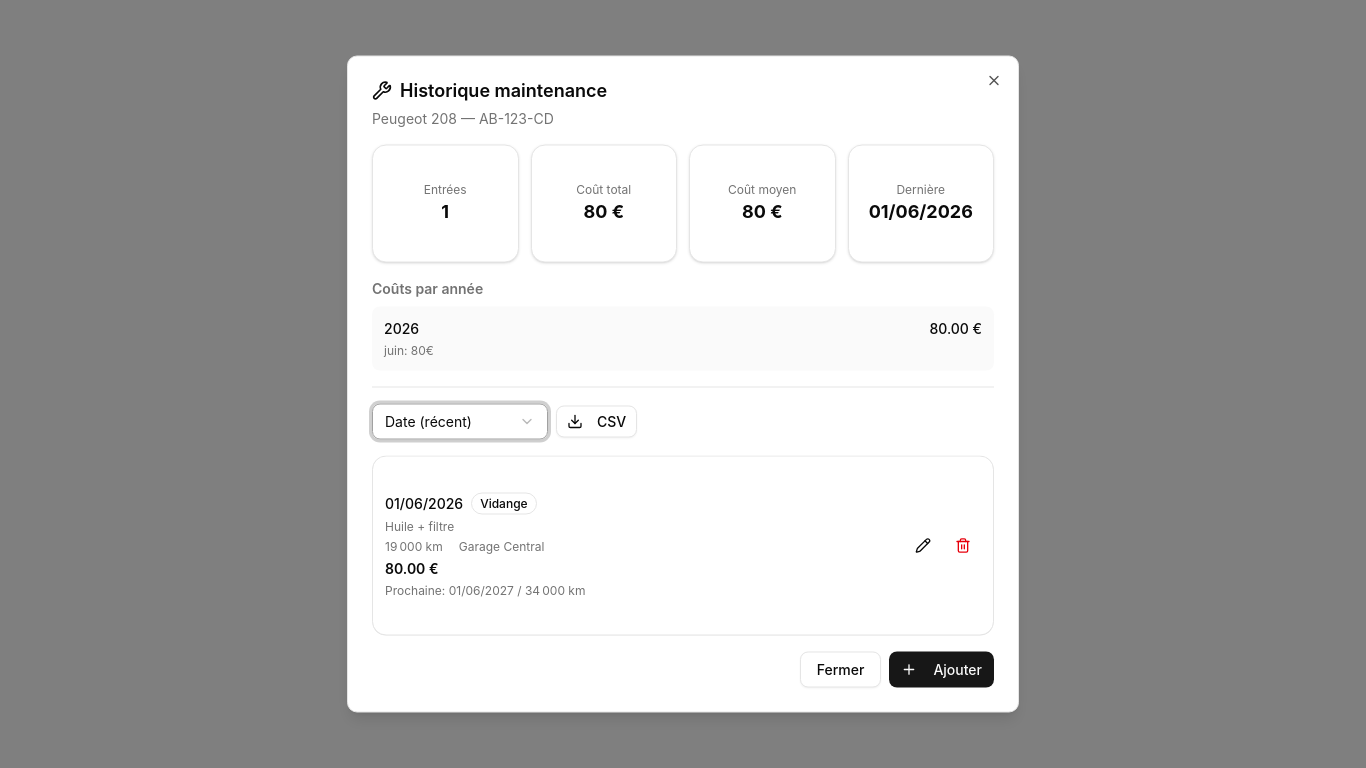
it: MaintenanceViewDialog › opens the add dialog from the Ajouter button
Expected: the heading "Historique maintenance" is shown, x1=372 y1=80 x2=607 y2=100
Click the button "Ajouter".
click(942, 670)  # box x1=889 y1=652 x2=994 y2=688
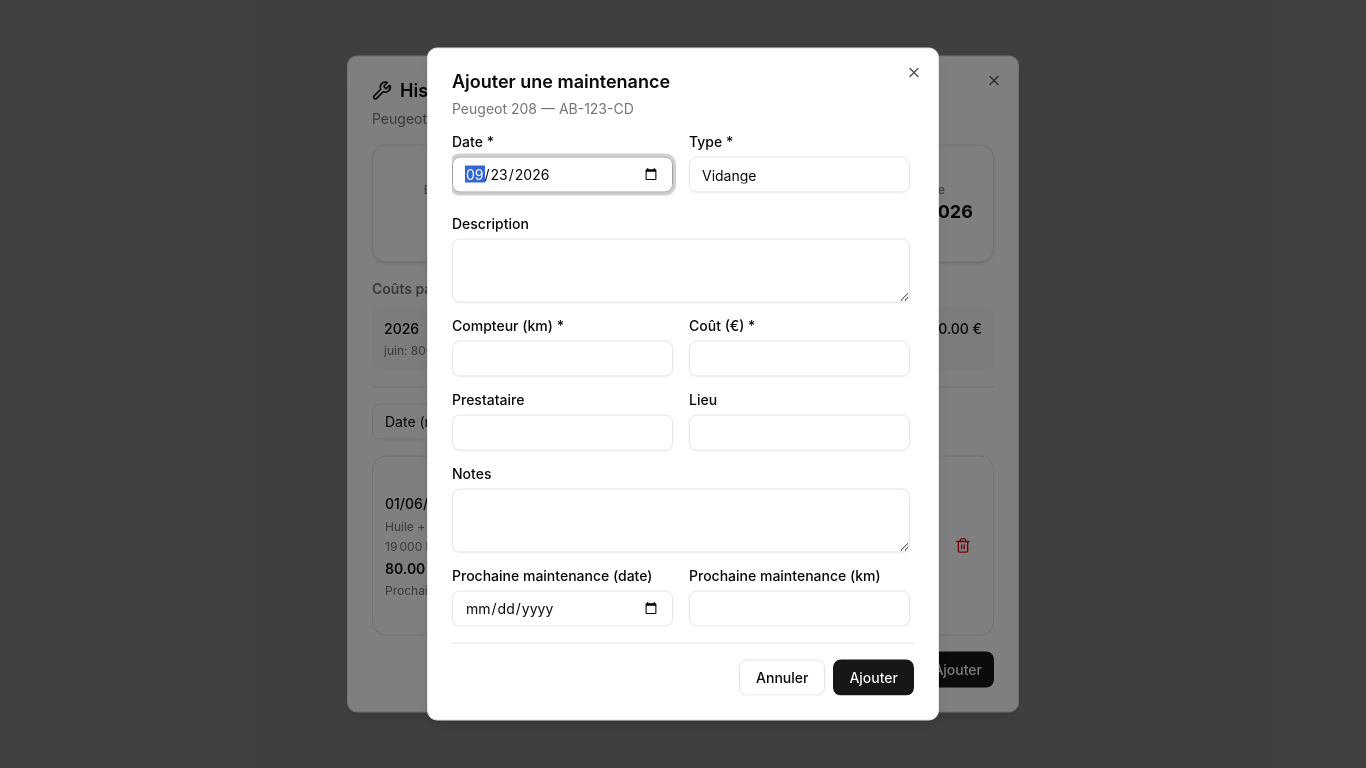
Result: the heading "Ajouter une maintenance" is shown at x1=452 y1=70 x2=670 y2=92
